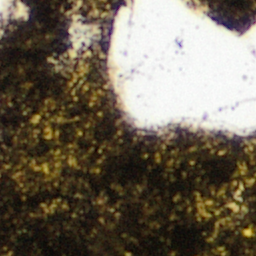cement_matrix: (0, 0, 255, 255), (185, 0, 255, 34), (67, 11, 101, 60)
gravel_crushed_stones: (110, 0, 255, 132), (68, 12, 100, 59), (0, 0, 27, 26)
